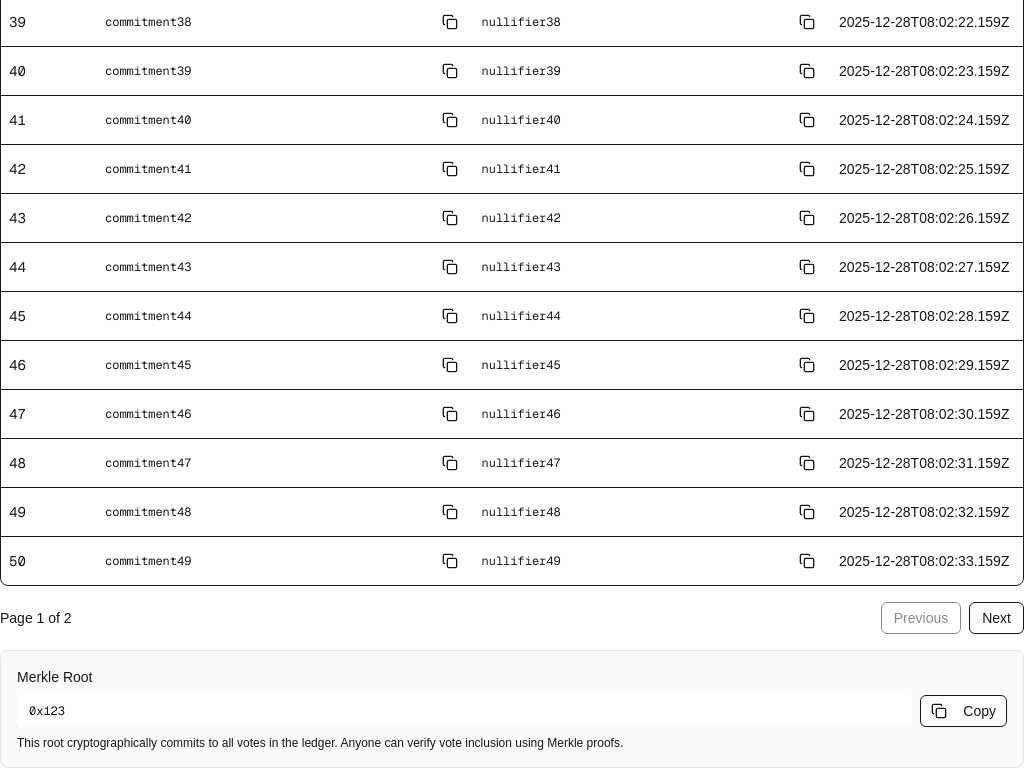
Test: VoteTable Component › Pagination › shows remaining votes on last page
(page scrolled)
Click the button "Next".
click(997, 618)  # box top-left (969, 602), bottom-right (1023, 634)
(page scrolled)
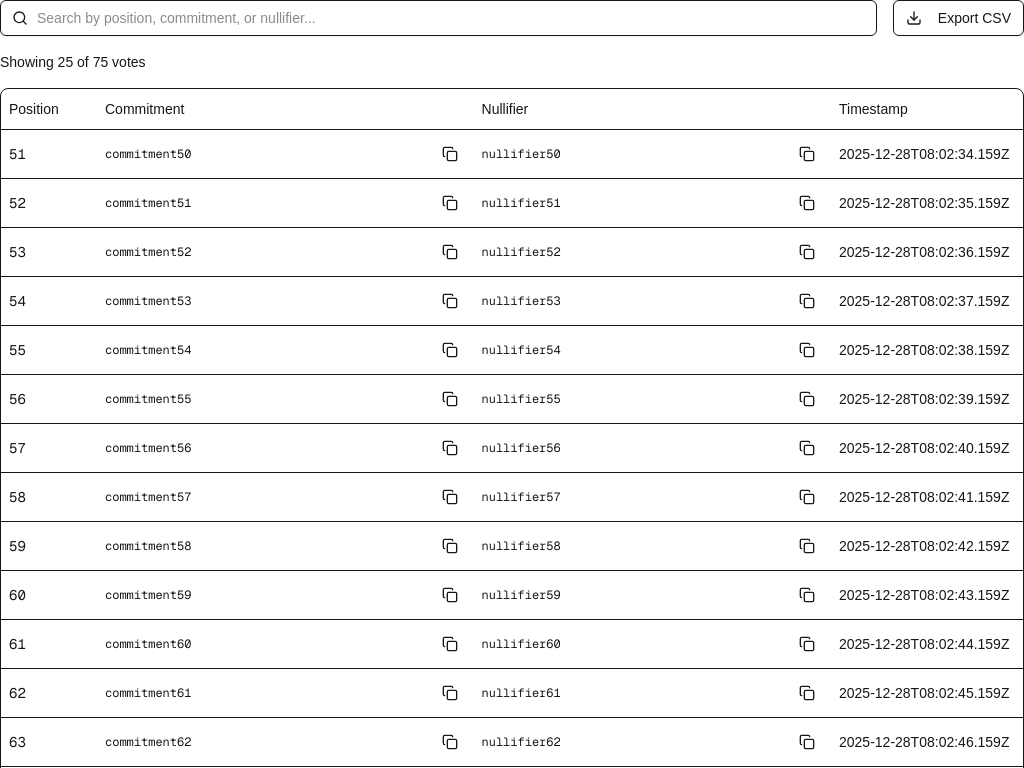
Check: the text "Showing 25 of 75 votes" is shown, box top-left (0, 54), bottom-right (146, 70)
